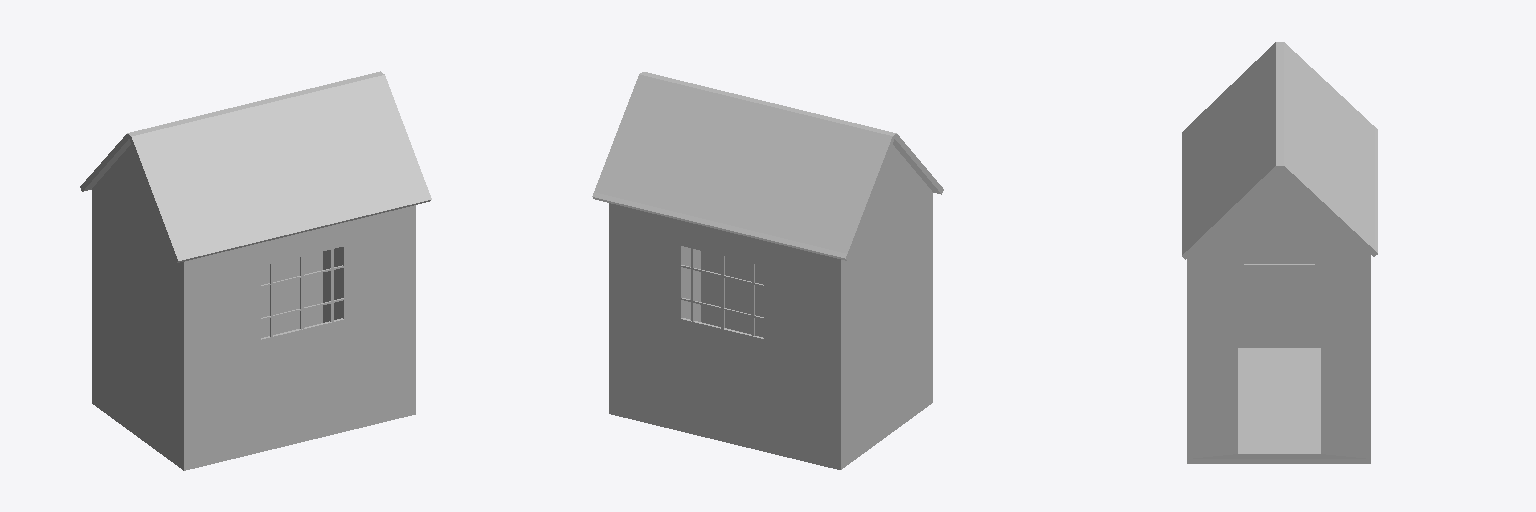
The model's file is doghouse.obj.
The picture shows the model from 3 angles: view 1: azimuth 30°, elevation 25°; view 2: azimuth 150°, elevation 25°; view 3: azimuth 270°, elevation 25°; orthographic projection.
Parts seen in each view (by area): view 1: doghouse; view 2: doghouse; view 3: doghouse.
Boxes of the visible parts, <box> form: doghouse: <box>80,71,431,470</box>; doghouse: <box>592,72,943,469</box>; doghouse: <box>1182,42,1377,463</box>.
Size of the model in its own units: 2.35 by 2.69 by 1.58.